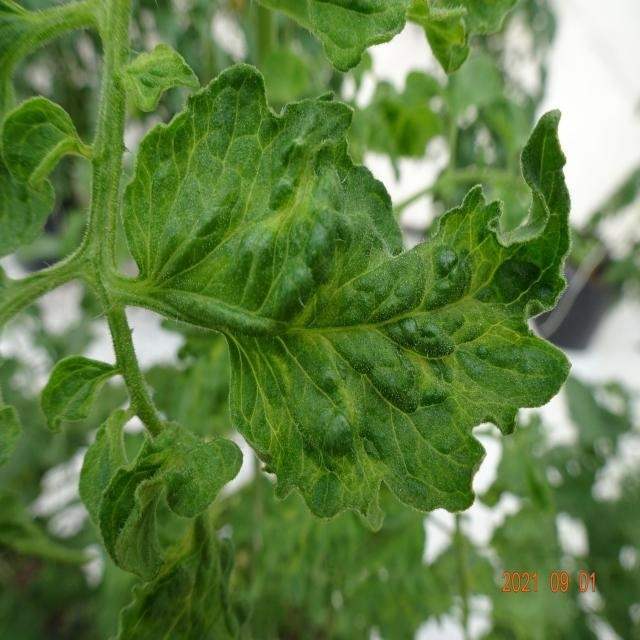T_L_R: (124, 66, 572, 533), (2, 98, 92, 186), (122, 46, 200, 113)
T_S_R: (82, 1, 165, 438)
